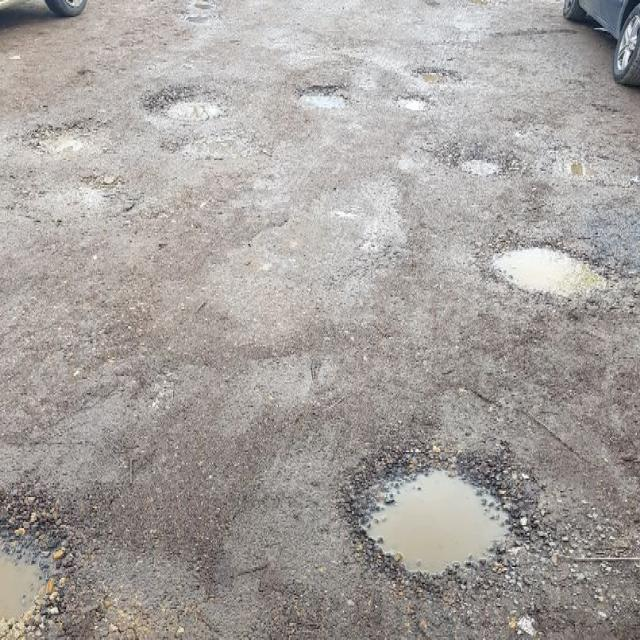Pothole: (339, 420, 540, 599), (481, 222, 618, 314), (145, 74, 230, 136), (454, 136, 510, 180), (294, 74, 351, 116)
